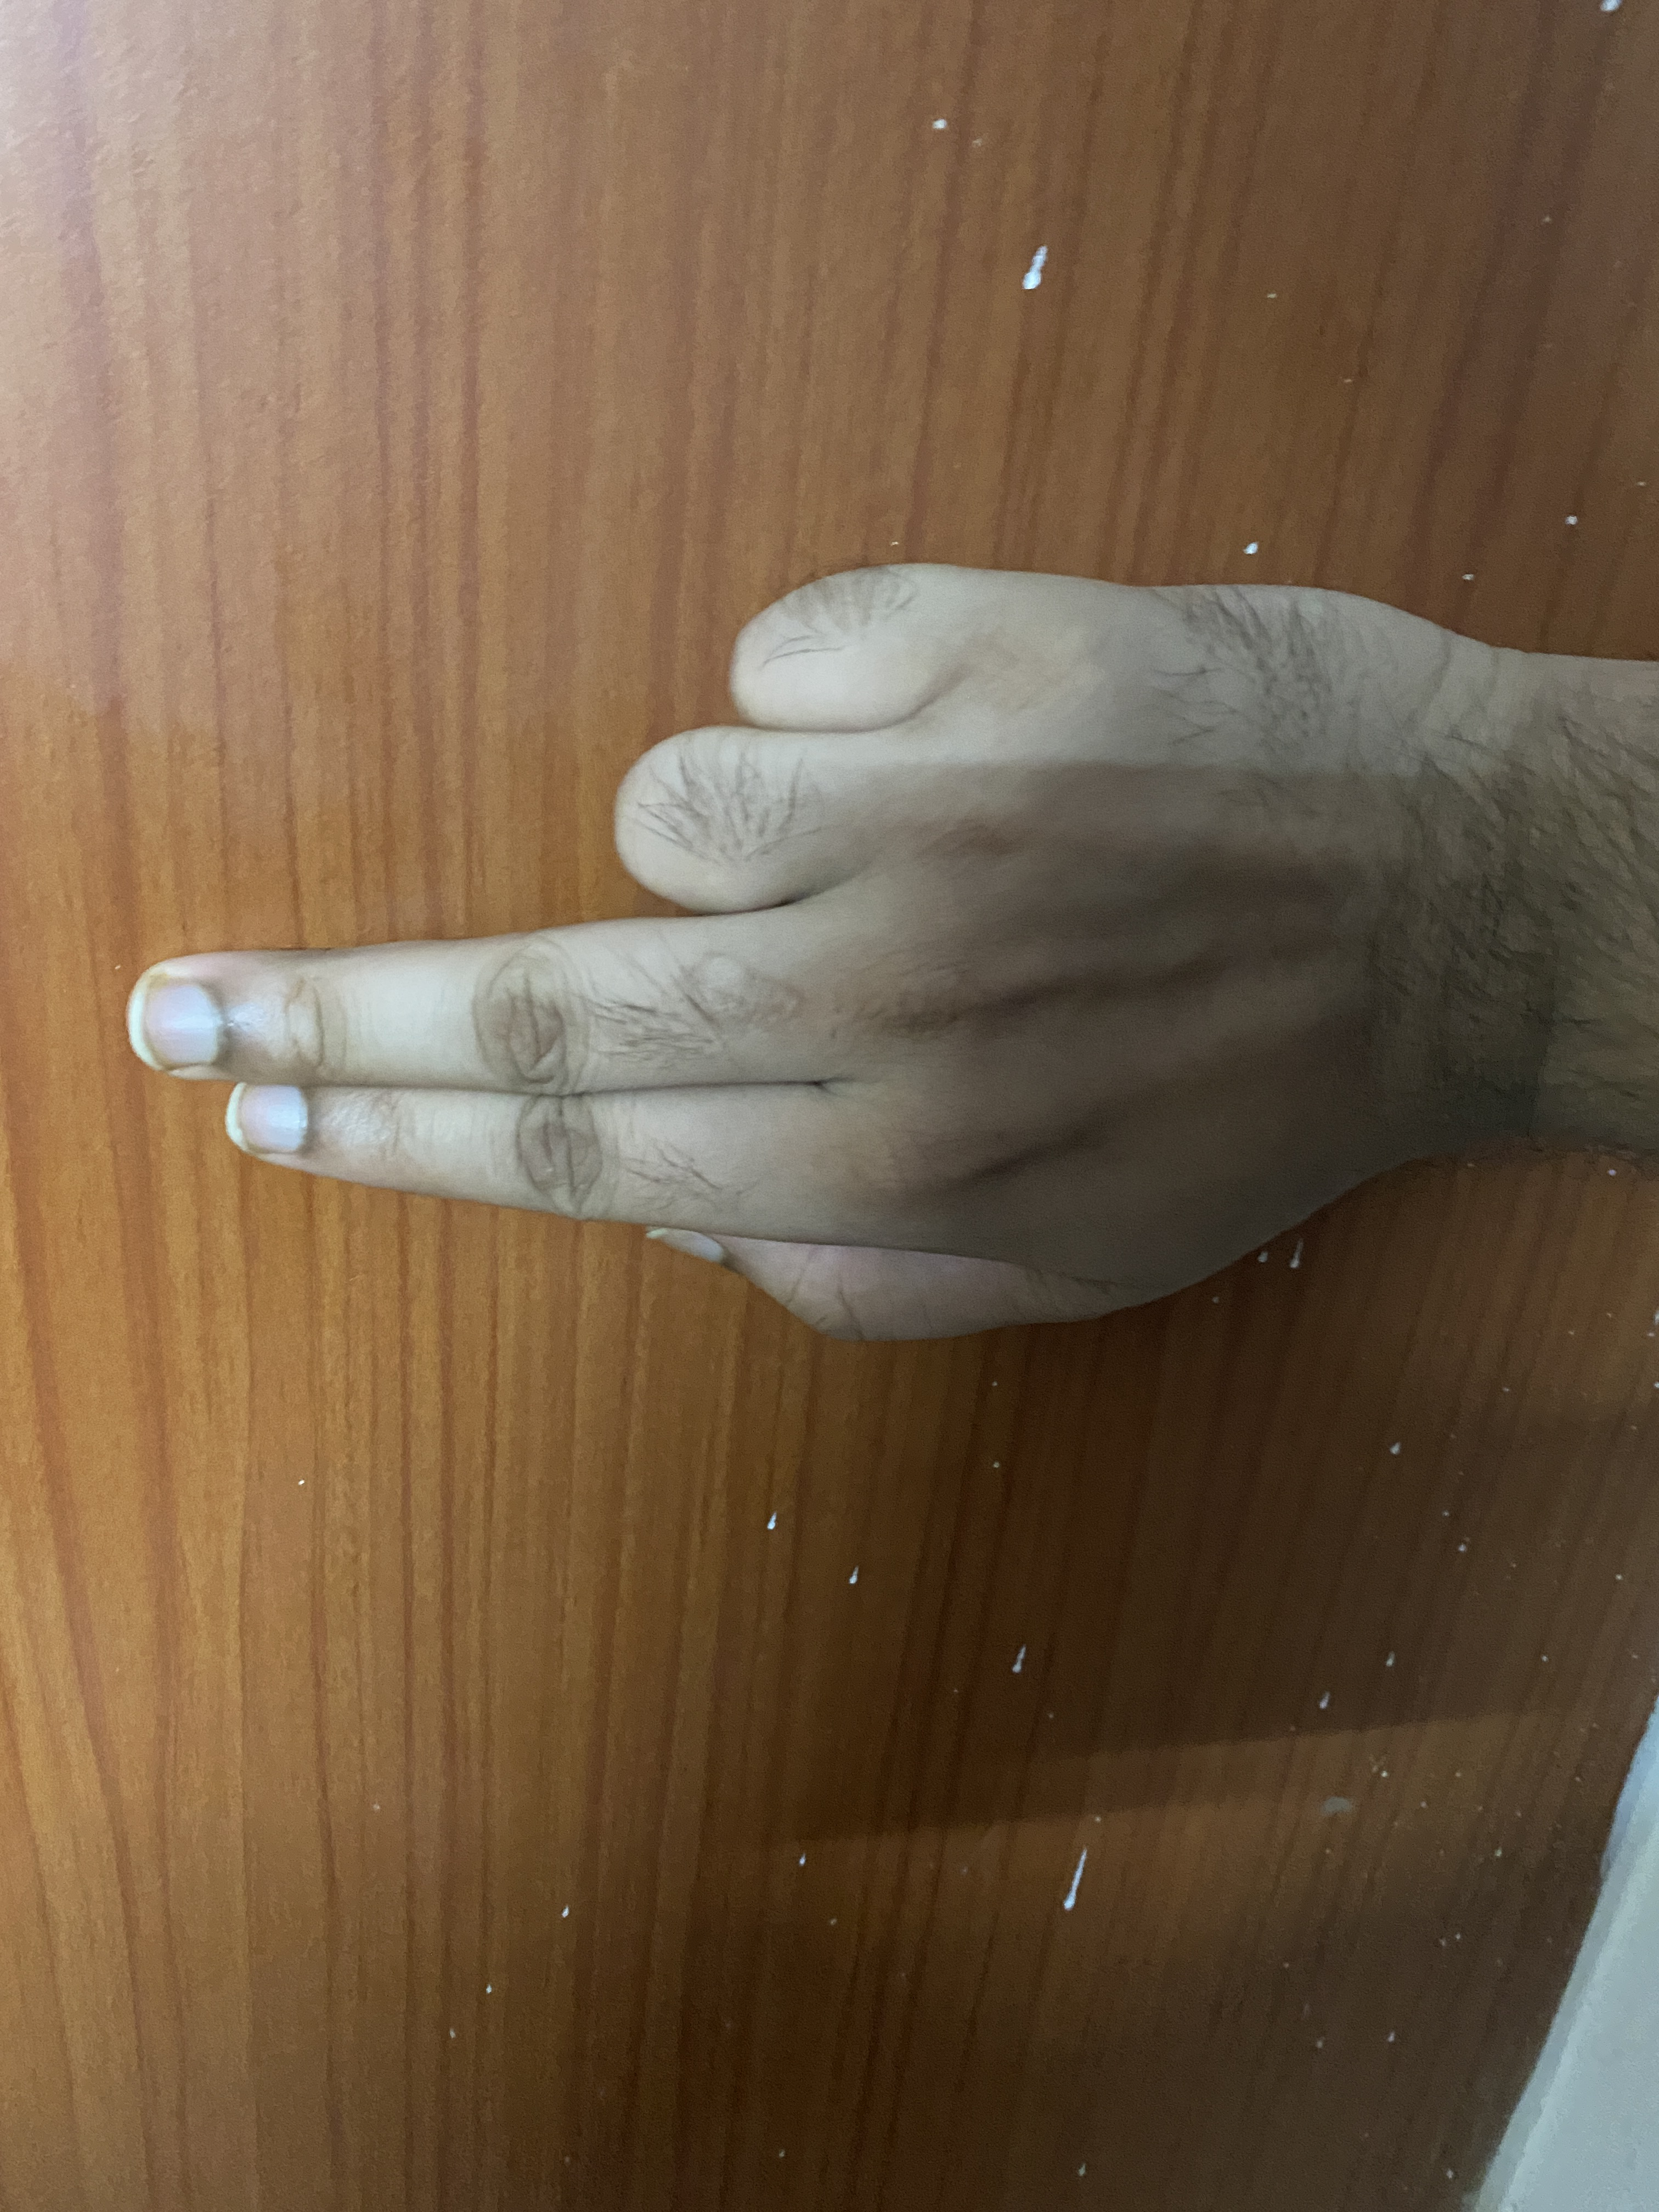right: (24, 280, 1659, 1512)
